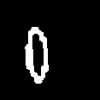chain: (25, 27, 48, 82)
